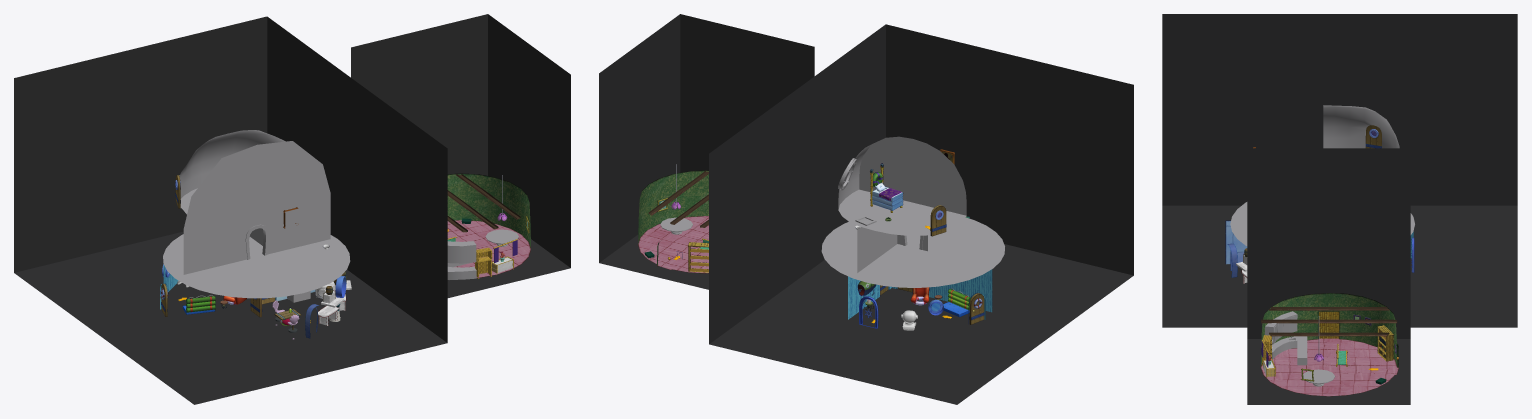
Rendered from casabobesponja.glb.
3 renders of one model, left to right at view 1: azimuth 30°, elevation 25°; view 2: azimuth 150°, elevation 25°; view 3: azimuth 270°, elevation 25°, orthographic. The views are drawn at different scales.
Visible parts, largest first — view 1: Object_6, Object_20, Object_24, Object_53, Object_54, Object_27; view 2: Object_6, Object_20, Object_24, Object_53, Object_79, Object_54, Object_71, Object_27, Object_68, Object_23; view 3: Object_6, Object_53, Object_20, Object_24, Object_54, Object_23, Object_78, Object_52, Object_68.
Part boxes in pixels (x1,y1,x2,y2): Object_6: (14,14,570,404); Object_20: (163,130,518,302); Object_24: (447,173,530,248); Object_53: (447,220,530,277); Object_54: (447,173,520,232); Object_27: (182,296,215,314); Object_6: (599,14,1133,404); Object_20: (660,136,1004,287); Object_24: (638,170,708,266); Object_53: (638,216,708,273); Object_79: (848,269,992,319); Object_54: (648,170,708,227); Object_71: (872,172,903,210); Object_27: (943,289,971,317); Object_68: (880,205,946,295); Object_23: (688,242,708,273); Object_6: (1162,14,1517,404); Object_53: (1261,338,1398,396); Object_20: (1230,105,1414,386); Object_24: (1260,293,1398,368); Object_54: (1261,307,1397,336); Object_23: (1377,325,1393,361); Object_78: (1225,220,1247,264); Object_52: (1319,311,1339,338); Object_68: (1365,125,1381,148).
Bounding box in the file's own units: 170 × 76.13 × 127.
Materials: 78 (60 with a texture image).
